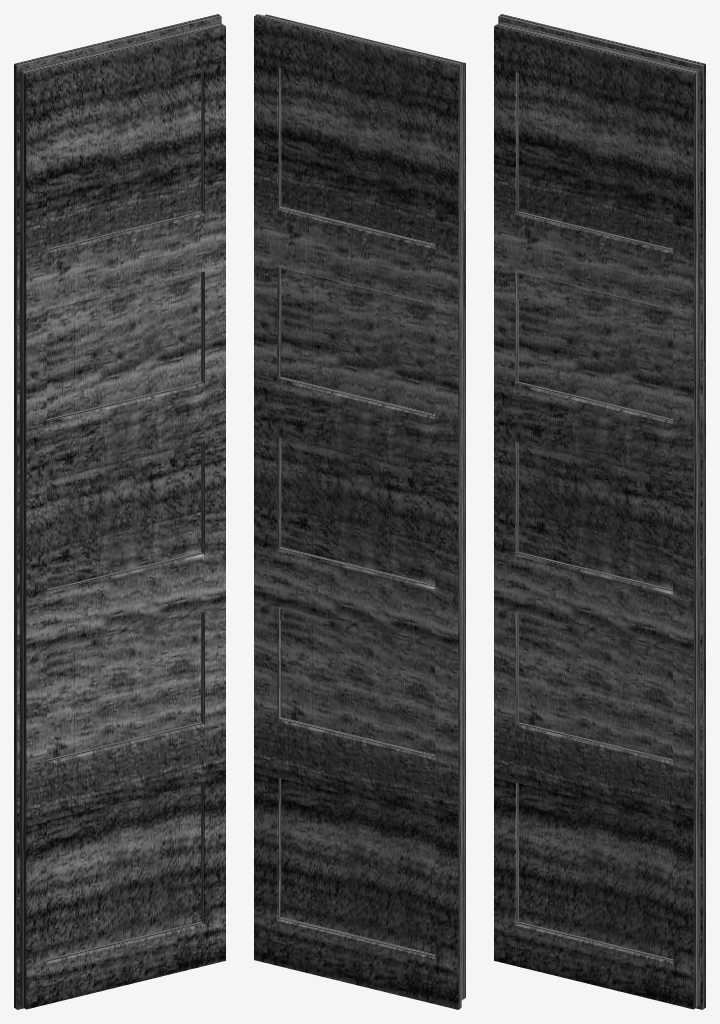
The model's file is puertarec.obj.
3 renders of one model, left to right at view 1: azimuth 30°, elevation 25°; view 2: azimuth 150°, elevation 25°; view 3: azimuth 330°, elevation 25°, orthographic.
Parts seen in each view (by area): view 1: puertarec:doorgrouppasted__pasted__pasted__group8pasted__pasted_; view 2: puertarec:doorgrouppasted__pasted__pasted__group8pasted__pasted_; view 3: puertarec:doorgrouppasted__pasted__pasted__group8pasted__pasted_.
Boxes of the visible parts, left/top/right/bottom form: puertarec:doorgrouppasted__pasted__pasted__group8pasted__pasted_: left=14, top=14, right=225, bottom=1009; puertarec:doorgrouppasted__pasted__pasted__group8pasted__pasted_: left=254, top=14, right=465, bottom=1009; puertarec:doorgrouppasted__pasted__pasted__group8pasted__pasted_: left=494, top=14, right=705, bottom=1009.
Bounding box in the file's own units: 0.7157 × 3.16 × 0.0594.
Materials: 1 (1 with a texture image).
